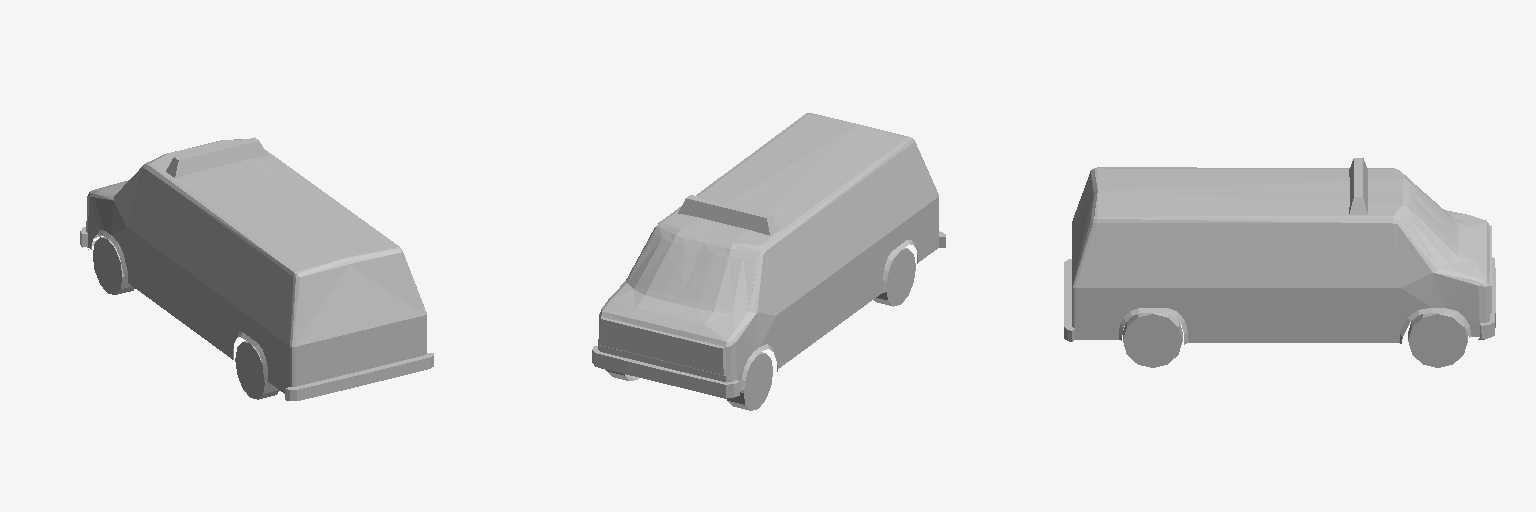
File: Ambulance_VanSmall.obj
3 views of the same model, side by side, from view 1: azimuth 30°, elevation 25°; view 2: azimuth 150°, elevation 25°; view 3: azimuth 270°, elevation 25° (orthographic).
Visible parts, largest first — view 1: Ambulace_Van; view 2: Ambulace_Van; view 3: Ambulace_Van.
Part boxes in pixels (x1,y1,x2,y2): Ambulace_Van: (80, 137, 433, 400); Ambulace_Van: (592, 113, 945, 410); Ambulace_Van: (1064, 158, 1495, 367).
Bounding box in the file's own units: 7.27 × 7.31 × 18.25.